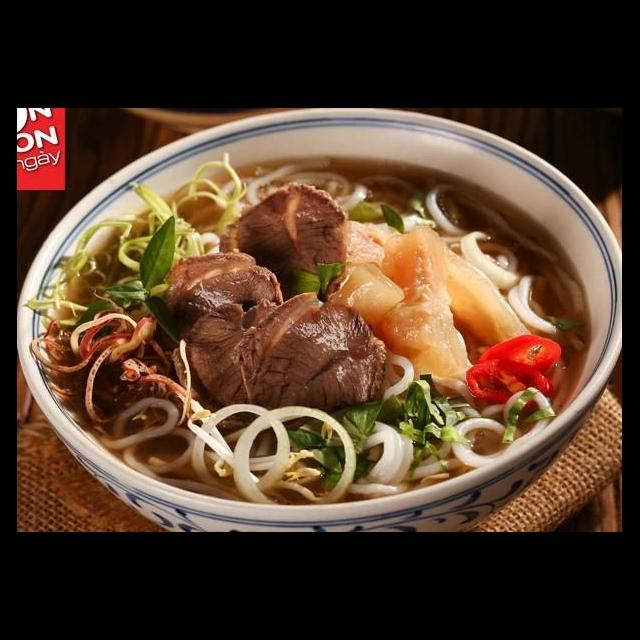bun: (342, 344, 556, 504), (87, 392, 255, 512), (202, 151, 374, 218), (502, 258, 598, 355)
bun bo: (58, 163, 542, 504)
thit bo: (226, 287, 390, 438), (214, 178, 354, 316), (180, 295, 300, 429), (156, 245, 294, 328)
